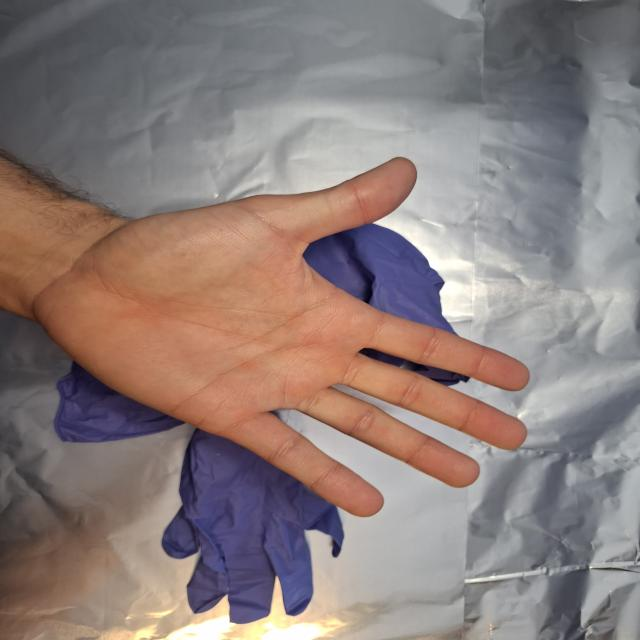glove_off: (25, 155, 533, 518)
